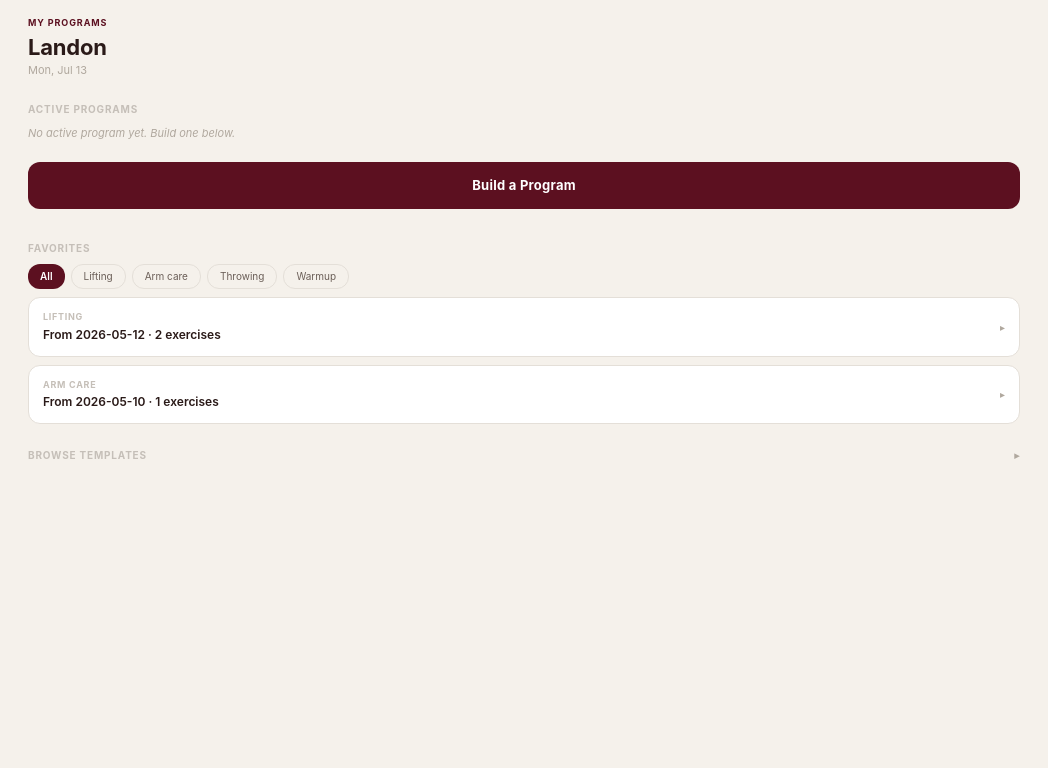
Programs: Favorites section › inline-expands a favorite to show its snapshot exercises (D13 render-only)
The image size is (1048, 768).
What coordinates should you click on to do the following:
click the button "Lifting From 2026-05-12 · 2 exercises ▸"
I would click on:
 (63, 317)
Its box is [43,310,1005,344].
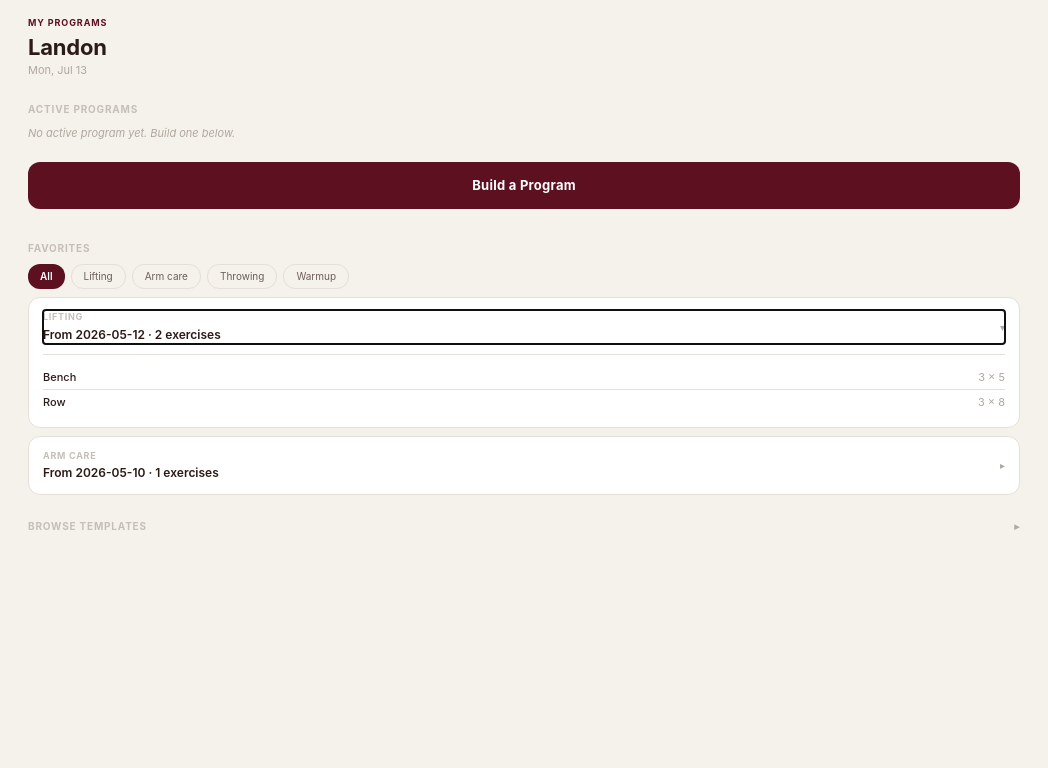
Now the element with test id "favorite-expanded-f1" is shown, box [43,354,1005,415]
Now the text "Bench" is shown, box [43,369,76,385]
Now the text "Row" is shown, box [43,394,66,411]
